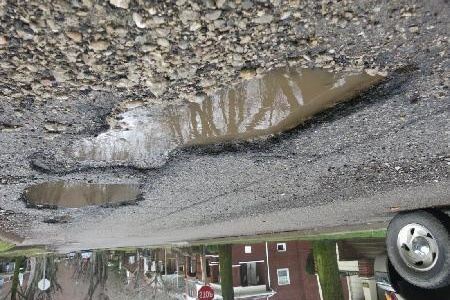pothole: (25, 54, 412, 175), (16, 180, 146, 214), (40, 214, 72, 227)
